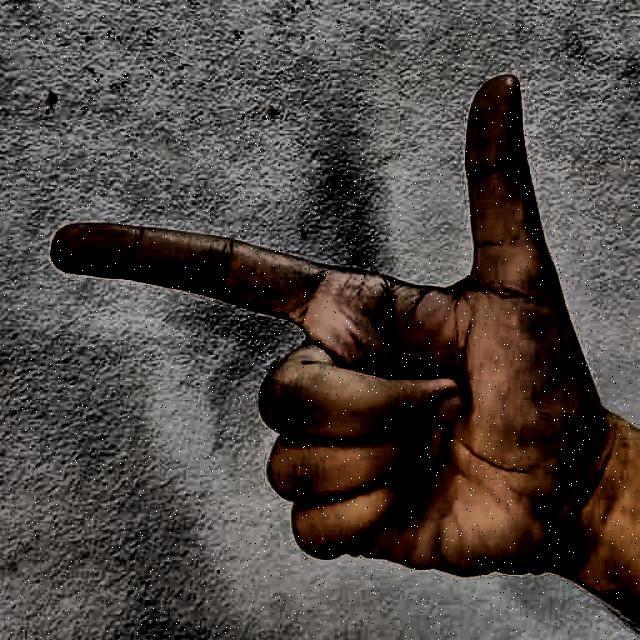Tha: (35, 41, 615, 609)
